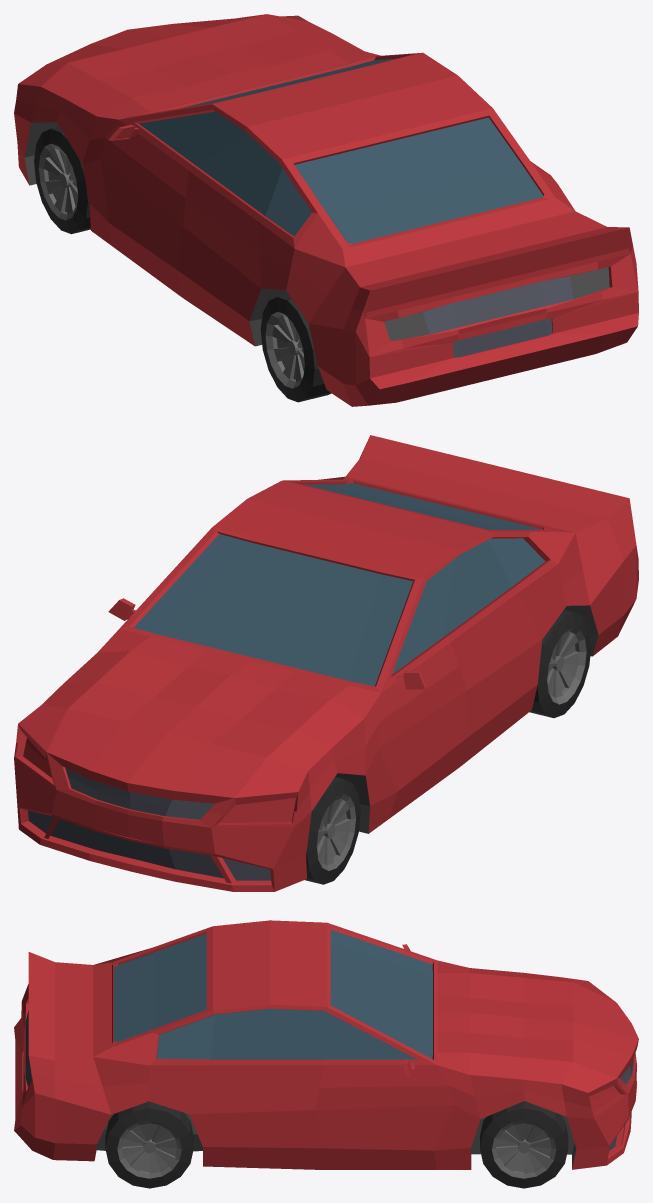
The model's file is LowPolyEpic.fbx.
3 views of the same model, one above another, from view 1: azimuth 30°, elevation 25°; view 2: azimuth 150°, elevation 25°; view 3: azimuth 270°, elevation 25° (orthographic). The views are drawn at different scales.
Parts seen in each view (by area): view 1: Cube, WheelBackLeft, WheelFrontLeft, Cube.002; view 2: Cube, WheelBackLeft, WheelFrontLeft, Cube.001; view 3: Cube, WheelBackRight, WheelFrontRight, Cube.001.
Part boxes in pixels (x1=…): Cube: x1=14, y1=14, x2=638, y2=406; WheelBackLeft: x1=260, y1=294, x2=331, y2=402; WheelFrontLeft: x1=34, y1=126, x2=90, y2=234; Cube.002: x1=384, y1=267, x2=609, y2=340; Cube: x1=14, y1=435, x2=638, y2=891; WheelBackLeft: x1=529, y1=610, x2=591, y2=718; WheelFrontLeft: x1=305, y1=777, x2=360, y2=884; Cube.001: x1=23, y1=738, x2=295, y2=822; Cube: x1=14, y1=920, x2=638, y2=1169; WheelBackRight: x1=105, y1=1101, x2=193, y2=1188; WheelFrontRight: x1=480, y1=1101, x2=568, y2=1188; Cube.001: x1=589, y1=1086, x2=619, y2=1112.
Size of the model in its own units: 245 by 155 by 511.
